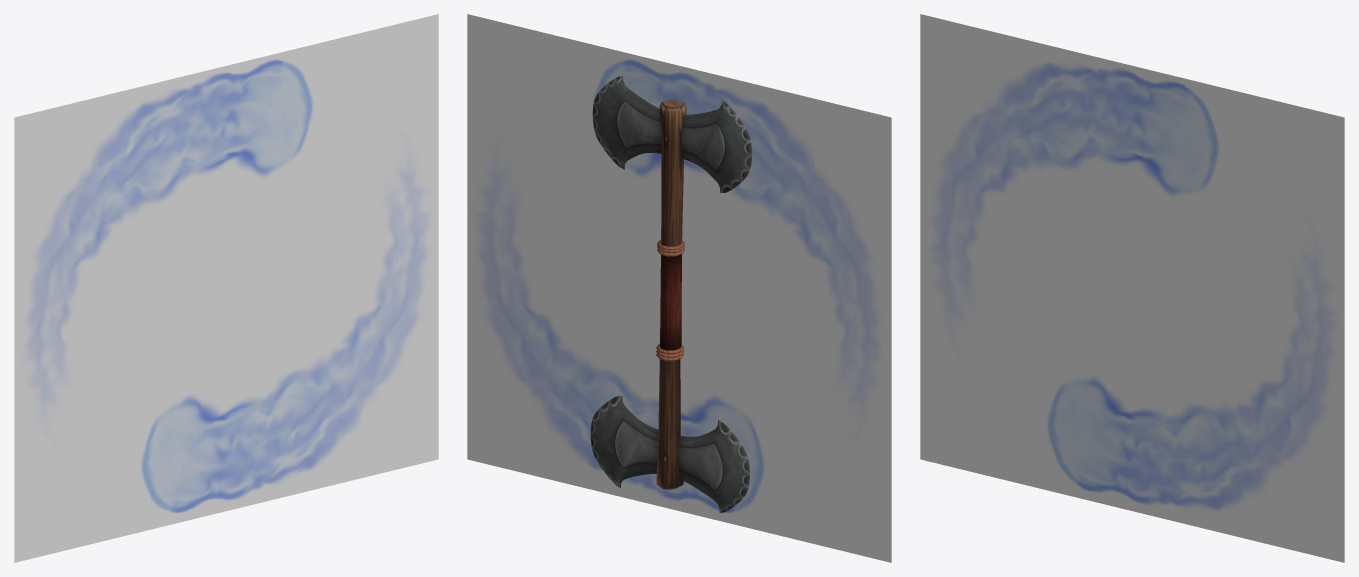
The model's file is Axe.FBX.
3 views of the same model, side by side, from view 1: azimuth 30°, elevation 25°; view 2: azimuth 150°, elevation 25°; view 3: azimuth 330°, elevation 25° (orthographic).
Visible parts, largest first — view 1: Axe_FX001; view 2: Axe_FX001, Axe001; view 3: Axe_FX001.
Part boxes in pixels (x1,y1,x2,y2): Axe_FX001: [14, 14, 438, 562]; Axe_FX001: [467, 14, 891, 562]; Axe001: [590, 76, 751, 513]; Axe_FX001: [920, 14, 1344, 562].
Size of the model in its own units: 2.04 by 2.05 by 0.132.
